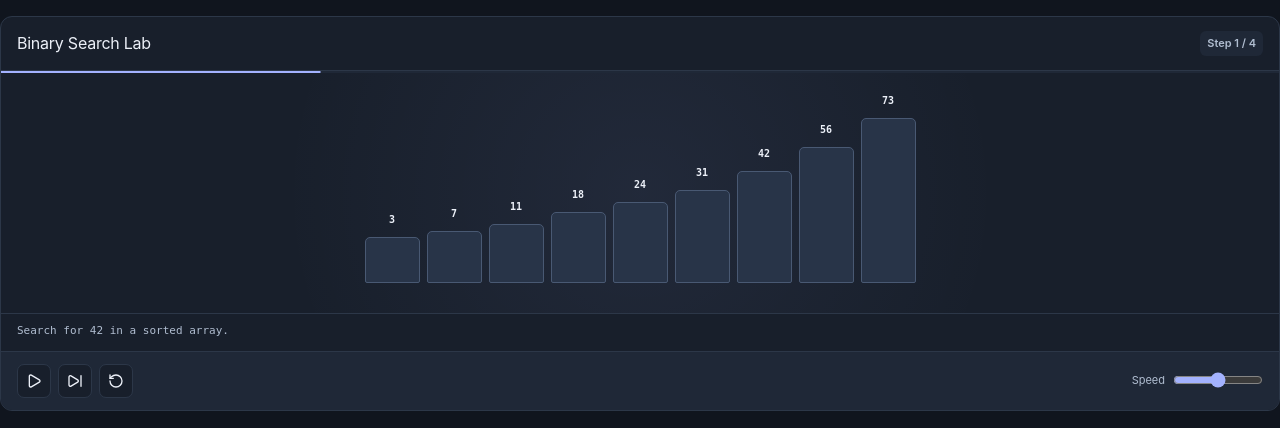
motion presentation components › advances and resets visualizer frames deterministically
Expected: the text "Step 1 / 4" is shown, x1=1200 y1=31 x2=1263 y2=56
Click the button named "Next step": (75, 380) x1=58 y1=364 x2=92 y2=398
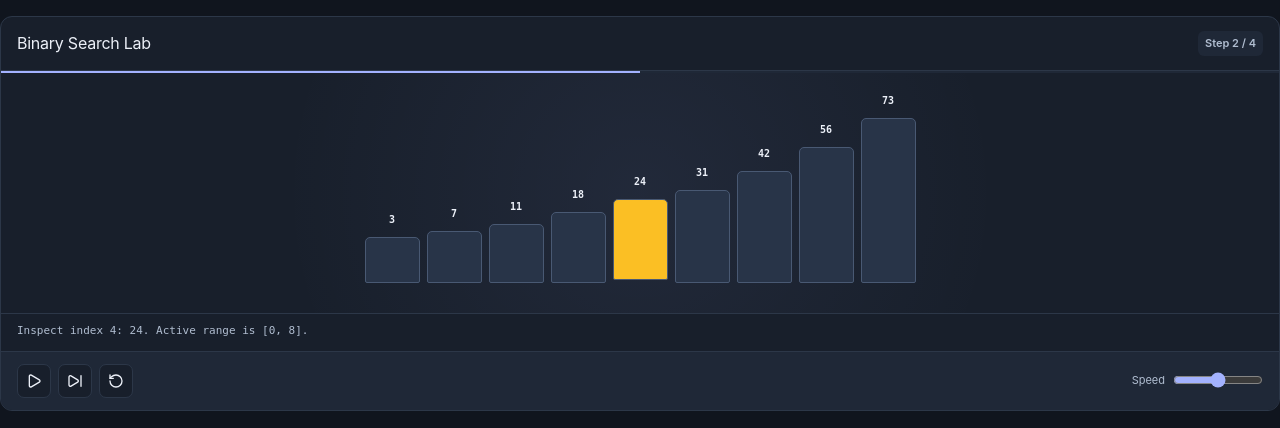
Expected: the text "Step 2 / 4" is shown, x1=1198 y1=31 x2=1263 y2=56
Expected: the text "Inspect index 4: 24. Active range is [0, 8]." is shown, x1=1 y1=312 x2=1279 y2=350
Click the button named "Reset": (116, 380) x1=99 y1=364 x2=133 y2=398
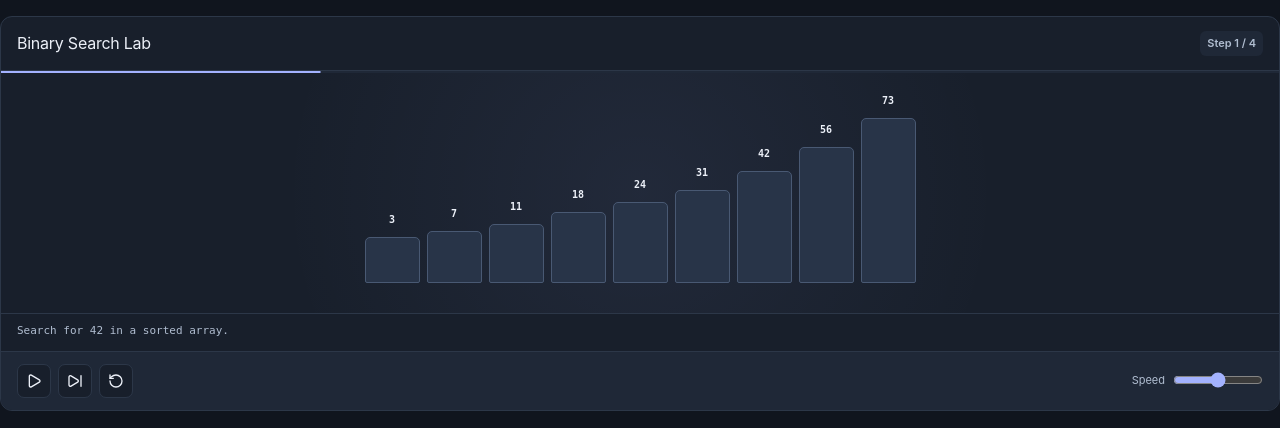
Expected: the text "Step 1 / 4" is shown, x1=1200 y1=31 x2=1263 y2=56
